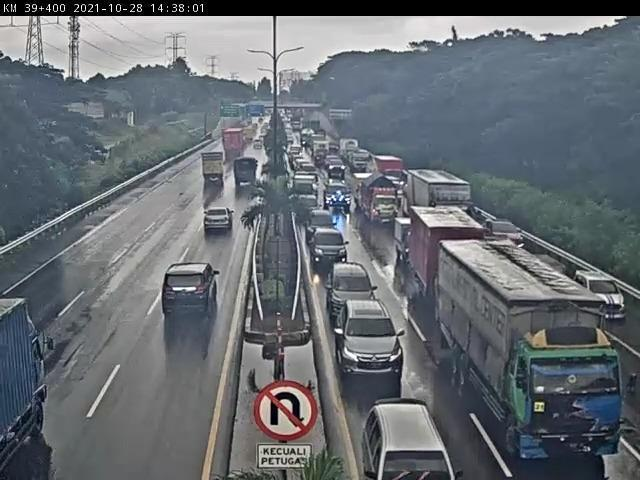truck: (438, 227, 636, 465)
